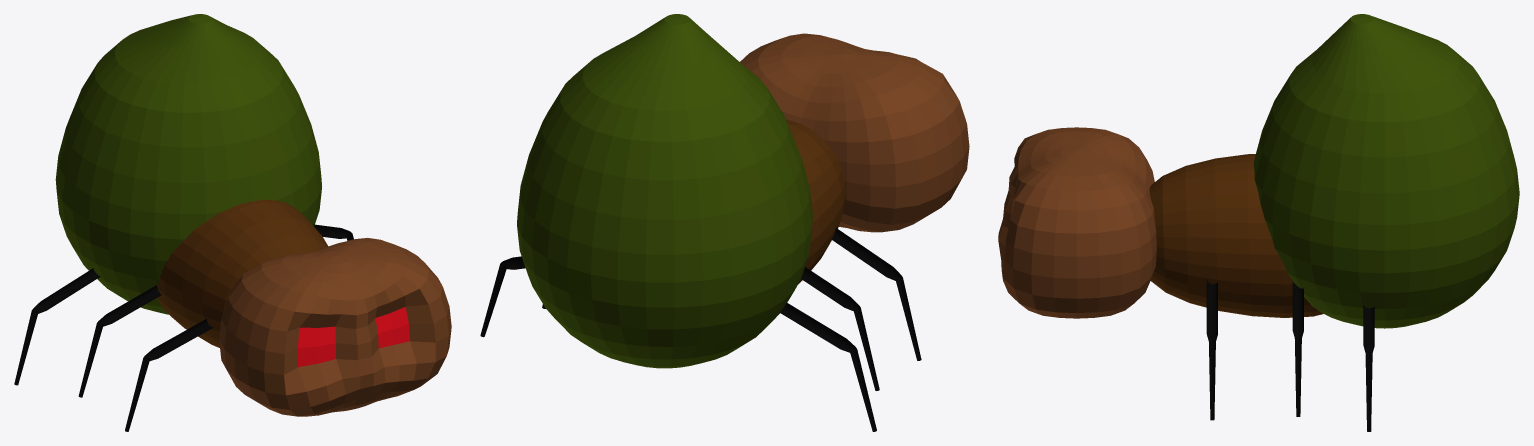
The model's file is Enemy.fbx.
3 views of the same model, side by side, from view 1: azimuth 30°, elevation 25°; view 2: azimuth 150°, elevation 25°; view 3: azimuth 270°, elevation 25° (orthographic). The views are drawn at different scales.
Visible parts, largest first — view 1: Abdomen, Head, Thorax, LLeg3, RLeg1, LLeg2; view 2: Abdomen, Head, Thorax, LLeg3, RLeg1, LLeg2, RLeg3; view 3: Abdomen, Head, Thorax, LLeg1, RLeg2, RLeg3.
Boxes of the visible parts, box(x1,y1,x2,y2) form: Abdomen: box(55, 14, 321, 314); Head: box(219, 238, 451, 416); Thorax: box(157, 199, 328, 347); LLeg3: box(14, 268, 100, 385); RLeg1: box(125, 318, 213, 431); LLeg2: box(78, 285, 161, 397); Abdomen: box(517, 14, 812, 368); Head: box(740, 33, 969, 232); Thorax: box(786, 120, 845, 284); LLeg3: box(779, 302, 876, 431); RLeg1: box(831, 228, 921, 360); LLeg2: box(801, 267, 879, 390); RLeg3: box(480, 256, 525, 337); Abdomen: box(1253, 14, 1519, 328); Head: box(998, 127, 1156, 318); Thorax: box(1149, 154, 1323, 317); LLeg1: box(1206, 279, 1217, 420); RLeg2: box(1292, 281, 1303, 416); RLeg3: box(1363, 305, 1374, 431).
Bounding box in the file's own units: 503 × 440 × 631.
